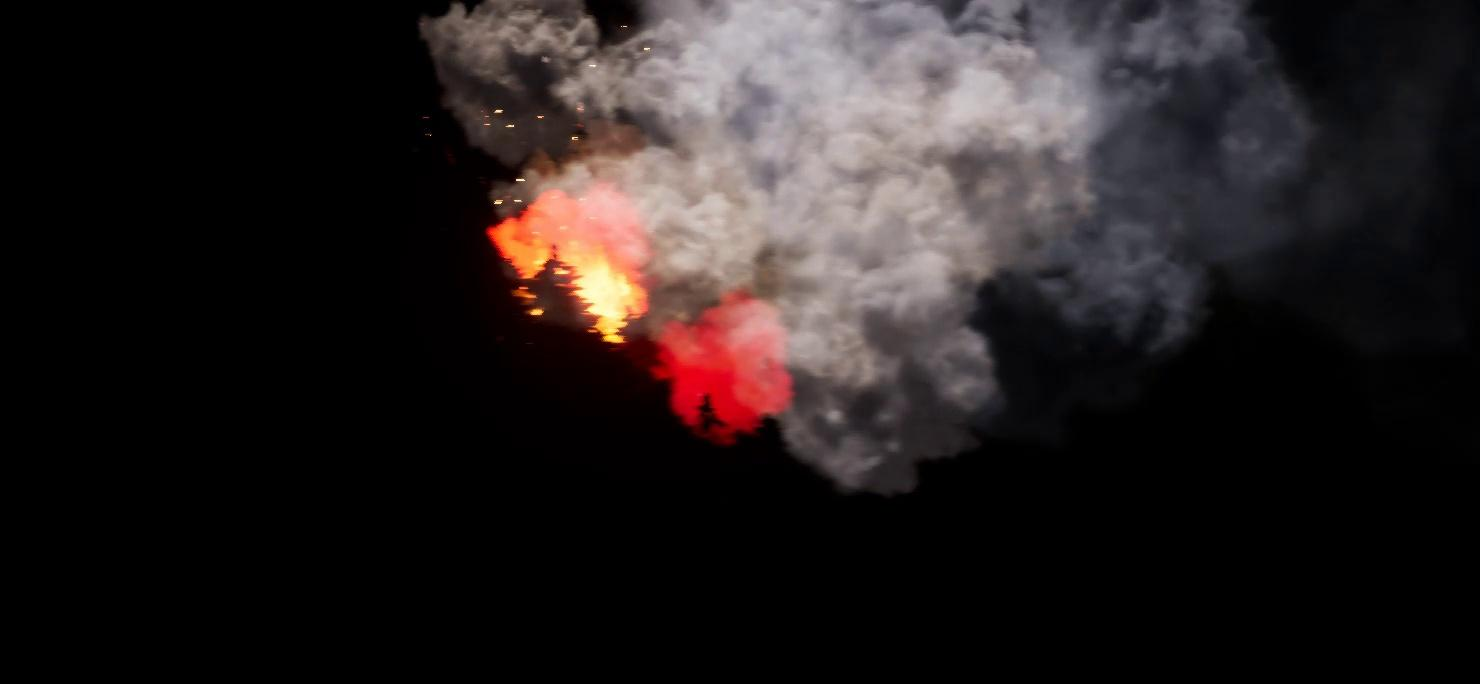fire: (479, 179, 651, 335), (649, 286, 800, 445)
smoke: (418, 0, 1377, 499)
